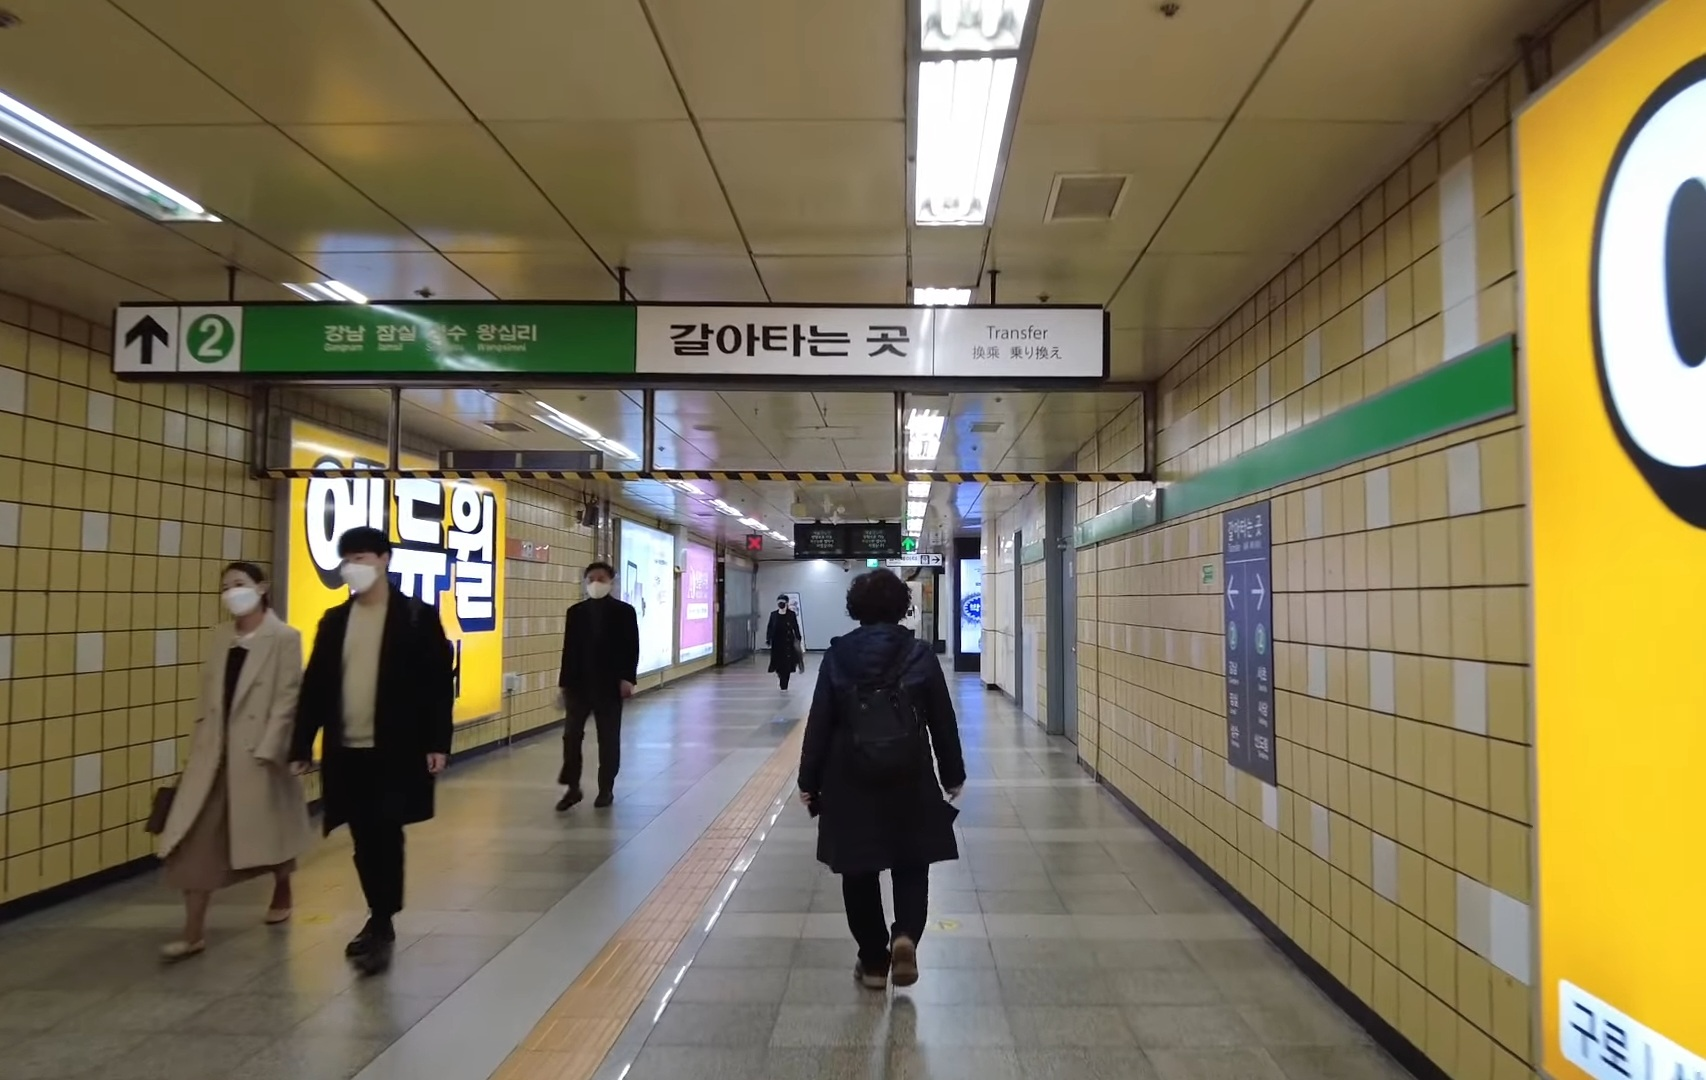signBoard: (109, 281, 1115, 391)
